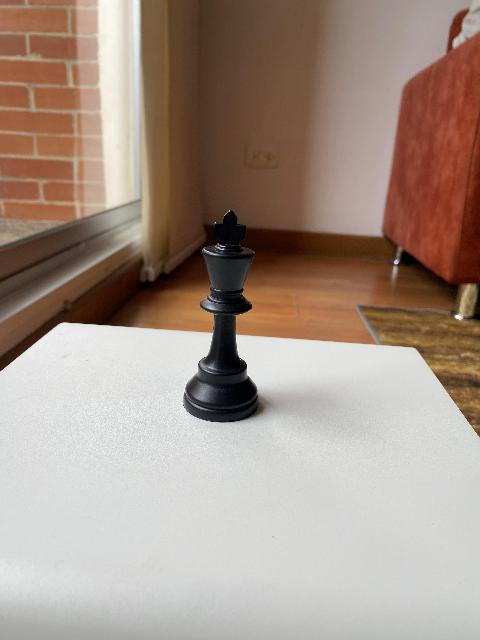black-king: (182, 209, 260, 423)
